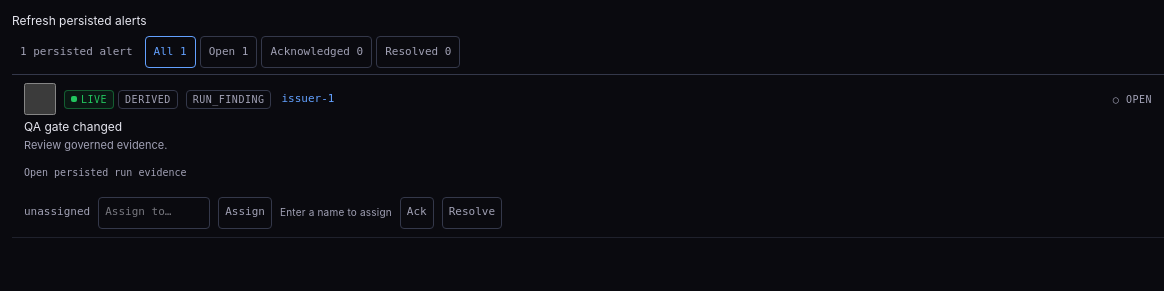
Test case: AlertInbox · persisted event presentation › opens the governed run QA report for the real run-finding materialization shape
Click the button with aria-label "Open source run:run-1".
click(105, 173)  # box [24, 157, 1152, 189]
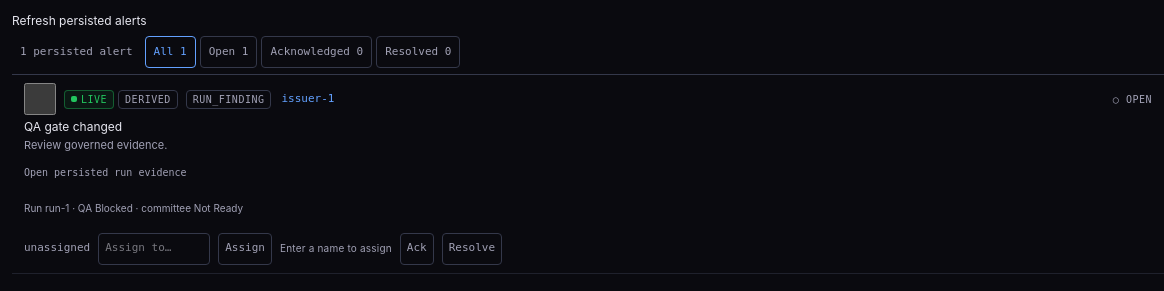
Check: the heading "Run run-1 · QA Blocked · committee Not Ready" is shown, box [24, 202, 243, 214]
